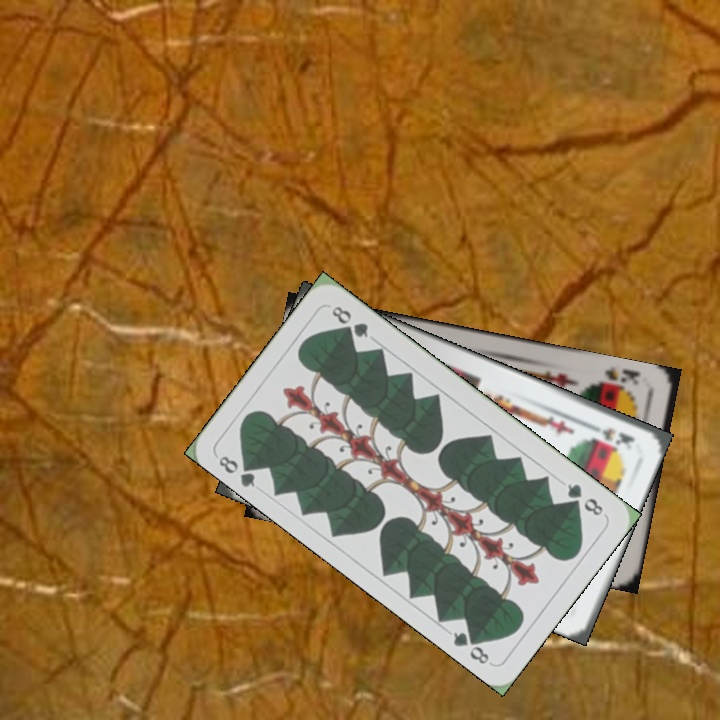G8: (214, 451, 260, 490), (563, 479, 606, 519)
SK: (583, 418, 637, 448), (600, 363, 642, 388)
